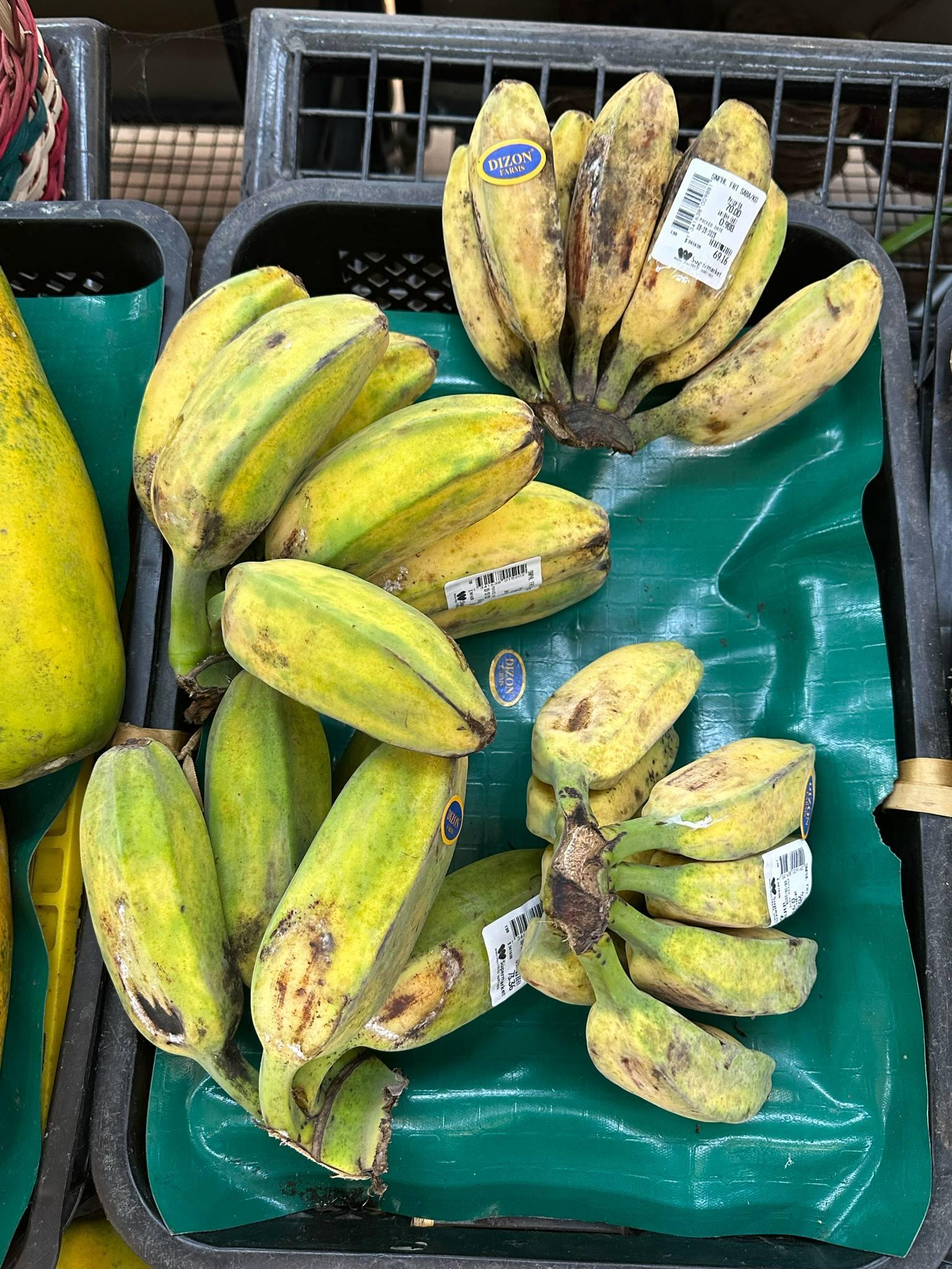underripe: (134, 268, 611, 757), (79, 670, 545, 1065), (439, 71, 889, 448), (520, 643, 818, 1122)
